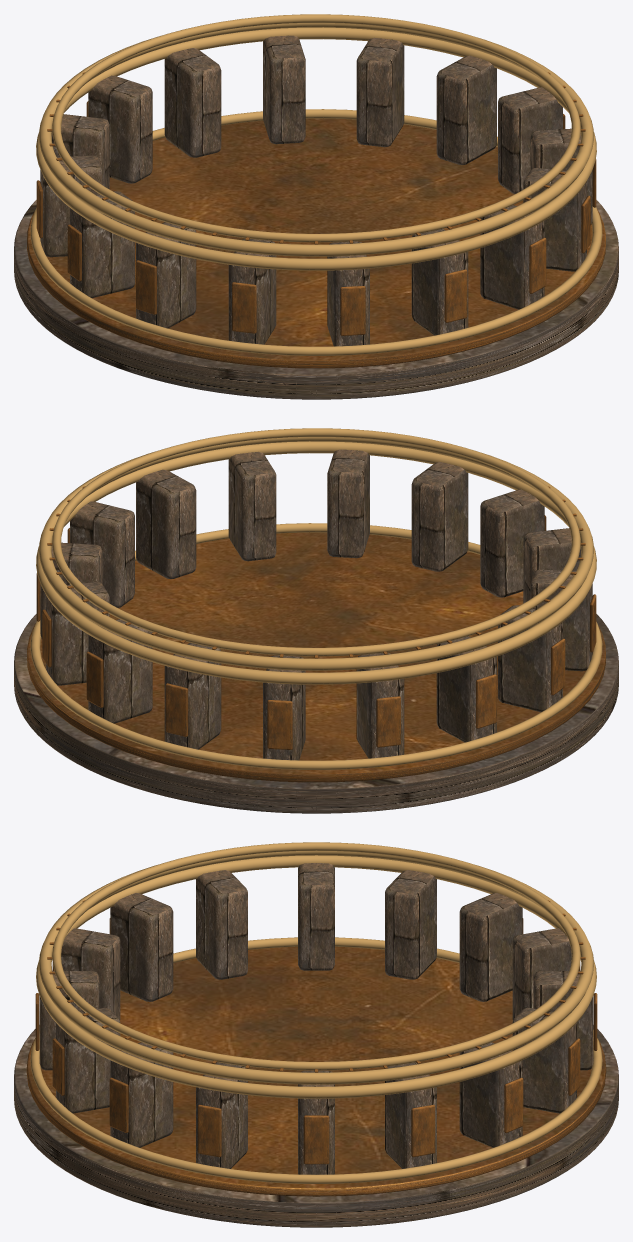
The model's file is time-ruins-altar.glb.
3 views of the same model, one above another, from view 1: azimuth 30°, elevation 25°; view 2: azimuth 150°, elevation 25°; view 3: azimuth 270°, elevation 25° (orthographic).
Visible parts, largest first — view 1: time-ruins-altar Weathered limestone, time-ruins-altar Aged bronze, time-ruins-altar Worn gold edges; view 2: time-ruins-altar Weathered limestone, time-ruins-altar Aged bronze, time-ruins-altar Worn gold edges; view 3: time-ruins-altar Weathered limestone, time-ruins-altar Aged bronze, time-ruins-altar Worn gold edges.
Boxes of the visible parts, <box> form: time-ruins-altar Weathered limestone: <box>14,35,618,399</box>; time-ruins-altar Aged bronze: <box>27,72,605,368</box>; time-ruins-altar Worn gold edges: <box>30,14,602,355</box>; time-ruins-altar Weathered limestone: <box>14,449,618,813</box>; time-ruins-altar Aged bronze: <box>27,486,605,782</box>; time-ruins-altar Worn gold edges: <box>30,428,602,769</box>; time-ruins-altar Weathered limestone: <box>14,863,618,1227</box>; time-ruins-altar Aged bronze: <box>26,900,606,1196</box>; time-ruins-altar Worn gold edges: <box>30,842,602,1183</box>.
Bounding box in the file's own units: 4.26 × 1.15 × 4.26.
3 materials, 2 textured.
